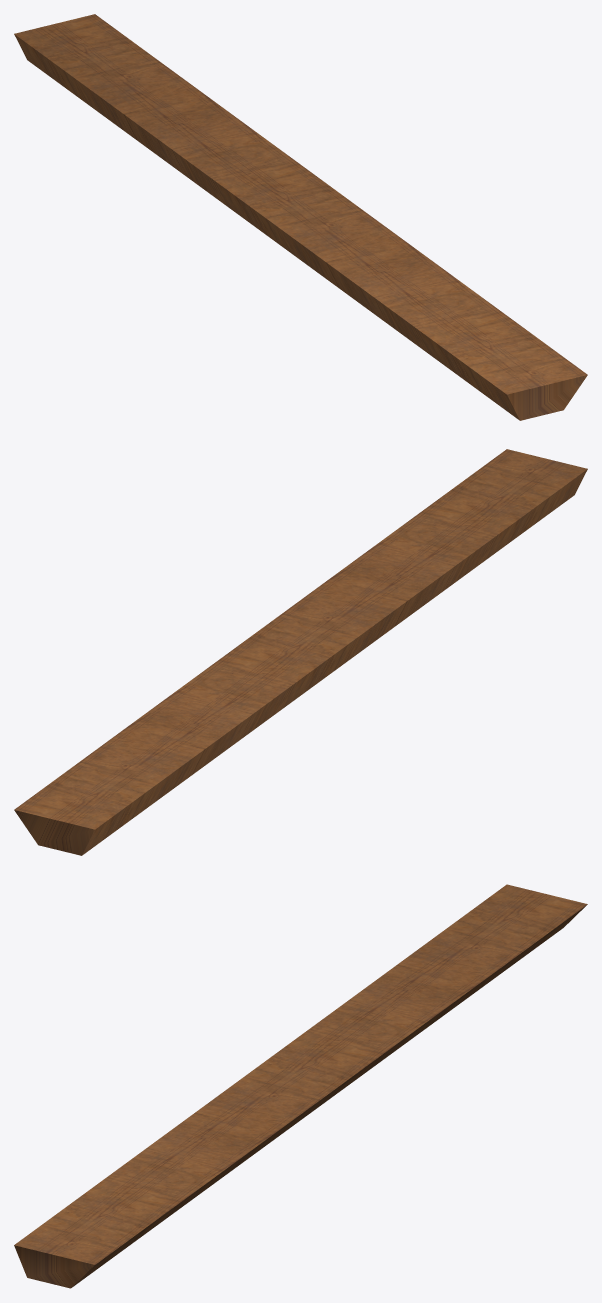
File: WoodBeam02.glb
3 views of the same model, one above another, from view 1: azimuth 30°, elevation 25°; view 2: azimuth 150°, elevation 25°; view 3: azimuth 330°, elevation 25° (orthographic).
Visible parts, largest first — view 1: WoodBeam02; view 2: WoodBeam02; view 3: WoodBeam02.
Part boxes in pixels (x1,y1,x2,y2): WoodBeam02: (14,14,587,420); WoodBeam02: (14,449,587,855); WoodBeam02: (14,884,587,1288).
Size of the model in its own units: 1.48 by 0.5143 by 15.59.
Materials: 1 (1 with a texture image).
